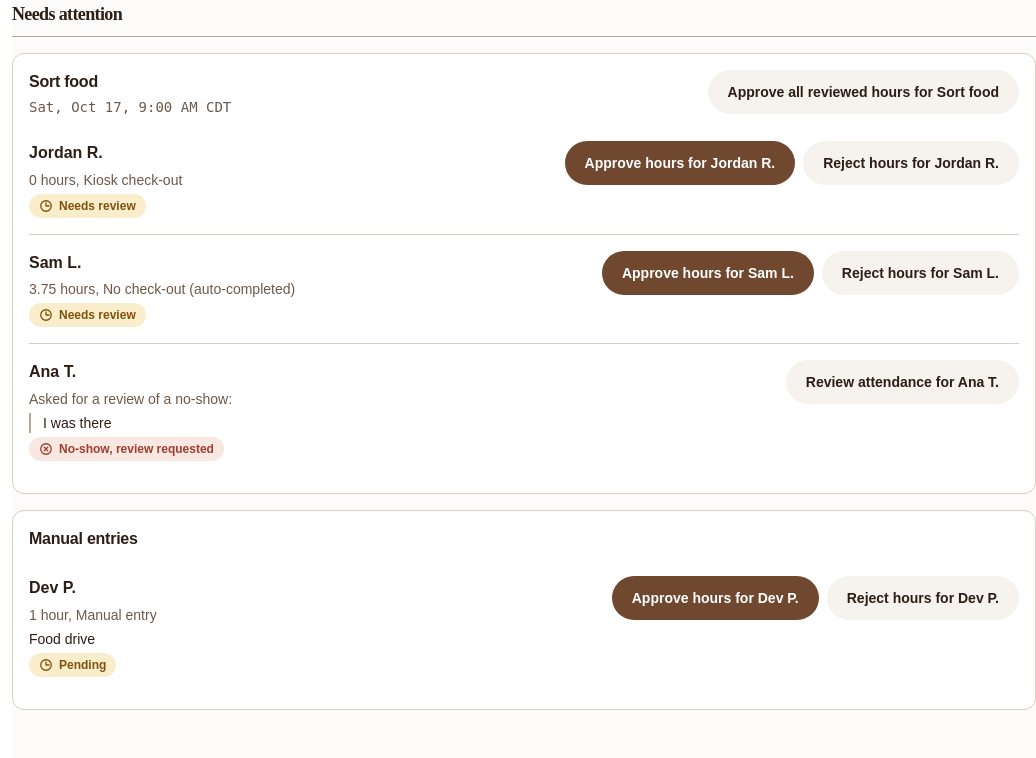
NeedsAttentionList › approves all reviewed hours of one shift, and shows refusals
The image size is (1036, 758).
Click the button "Approve all reviewed hours for Sort food". click: (863, 92)
box: top-left (708, 70), bottom-right (1019, 114)
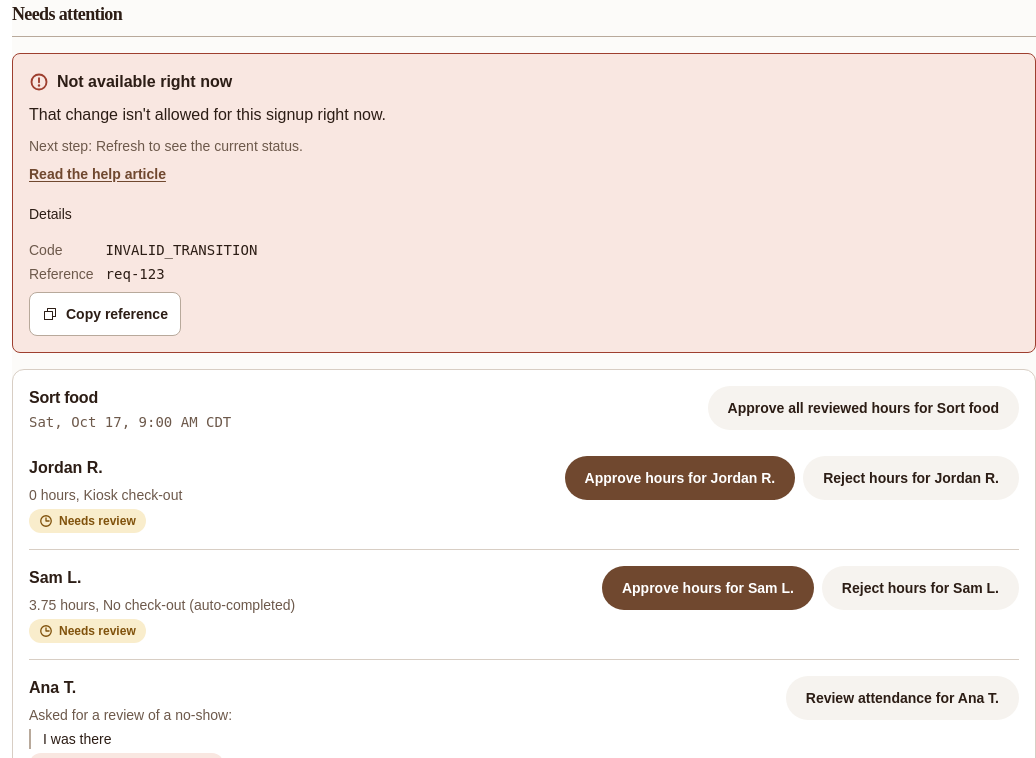
expect the message shows "That change isn't allowed for this signup right now.": met, box top-left (29, 106), bottom-right (386, 123)
